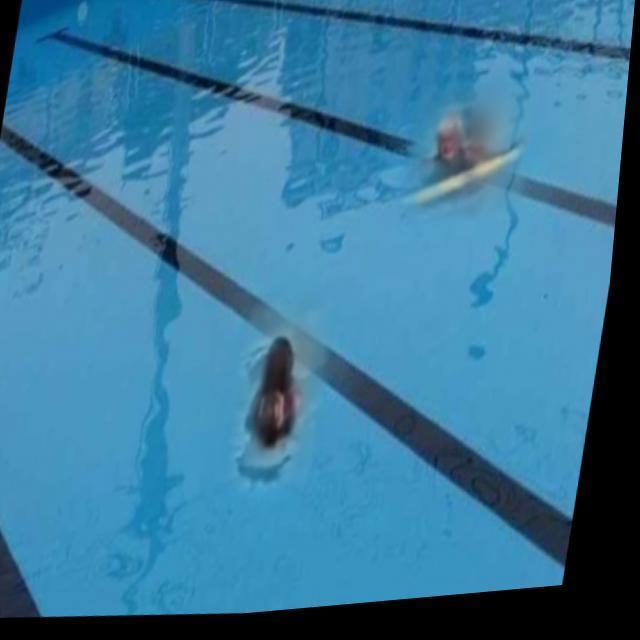swimming: (369, 100, 538, 211), (234, 335, 334, 497)
